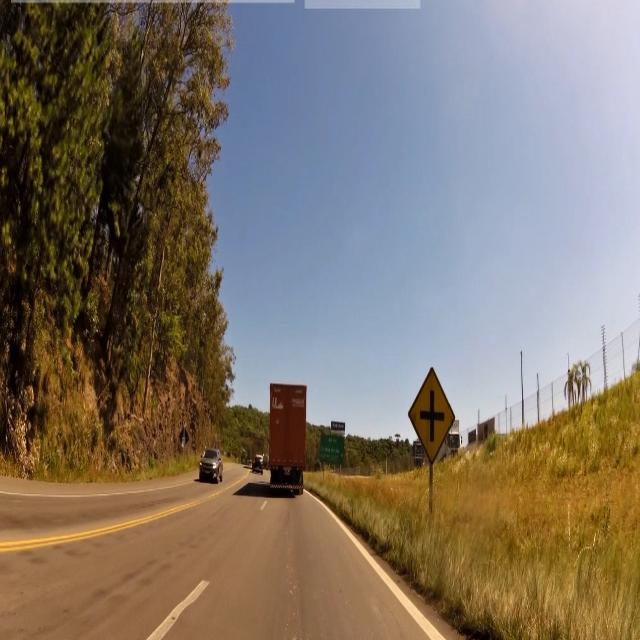A-7a: (406, 364, 457, 463)
